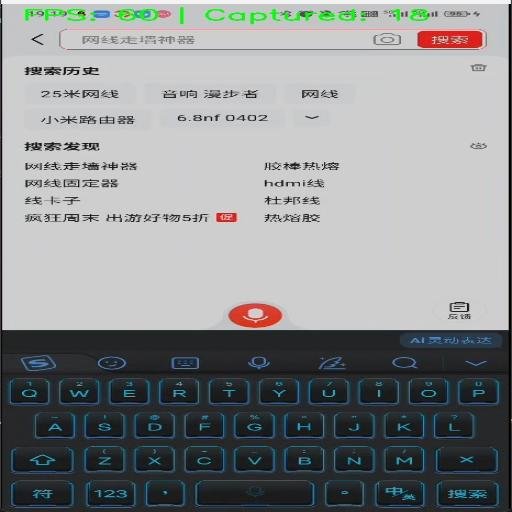back: (17, 29, 66, 52), (446, 353, 502, 372)
input: (60, 30, 485, 48)
